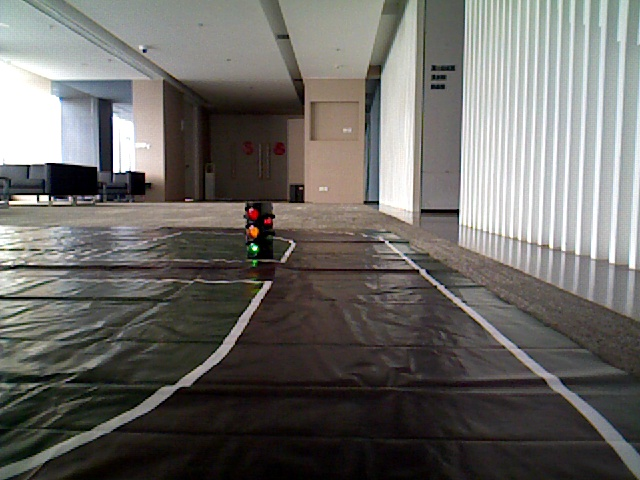green: (247, 206, 259, 255)
